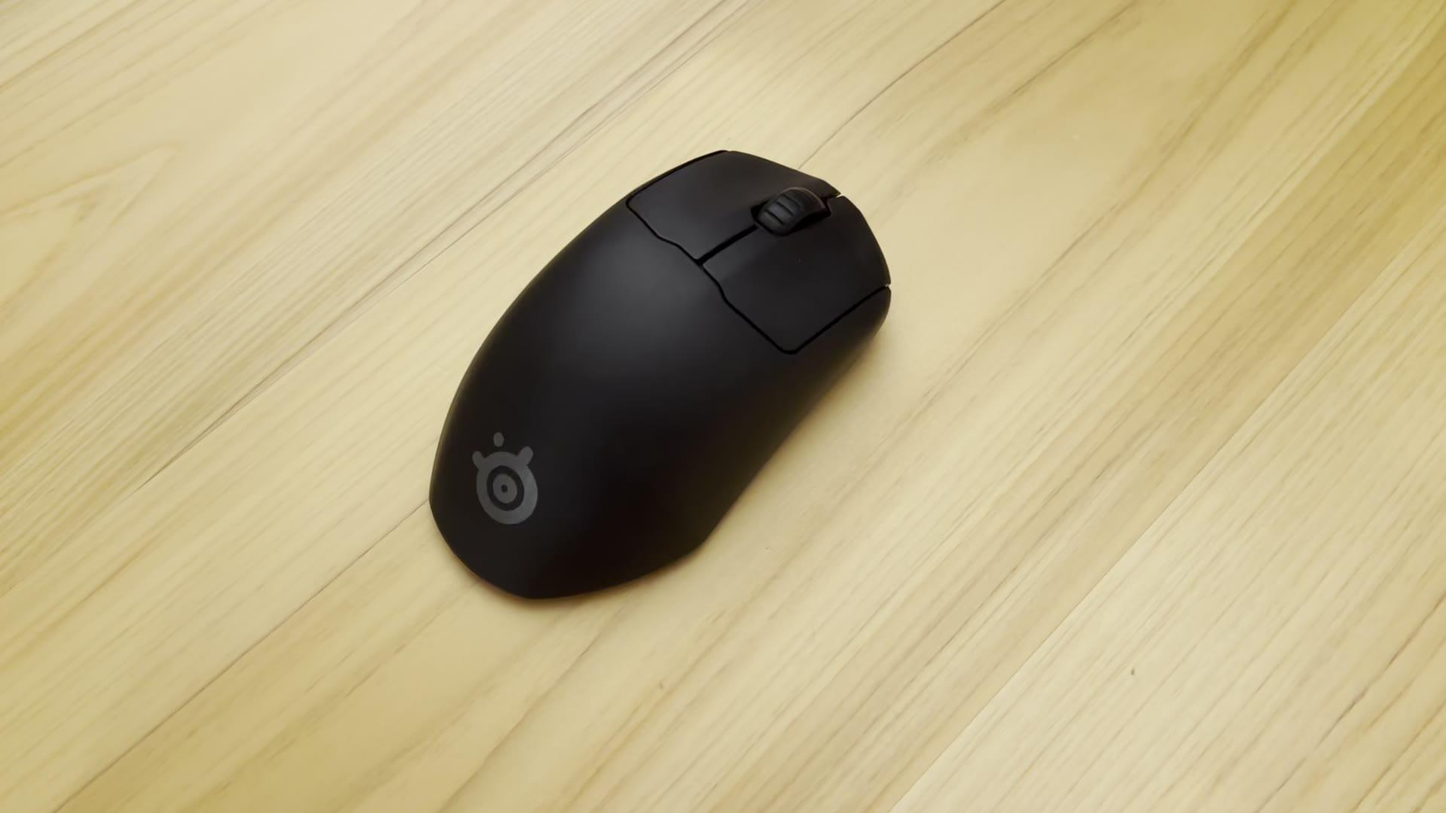steel-series: (421, 128, 899, 622)
